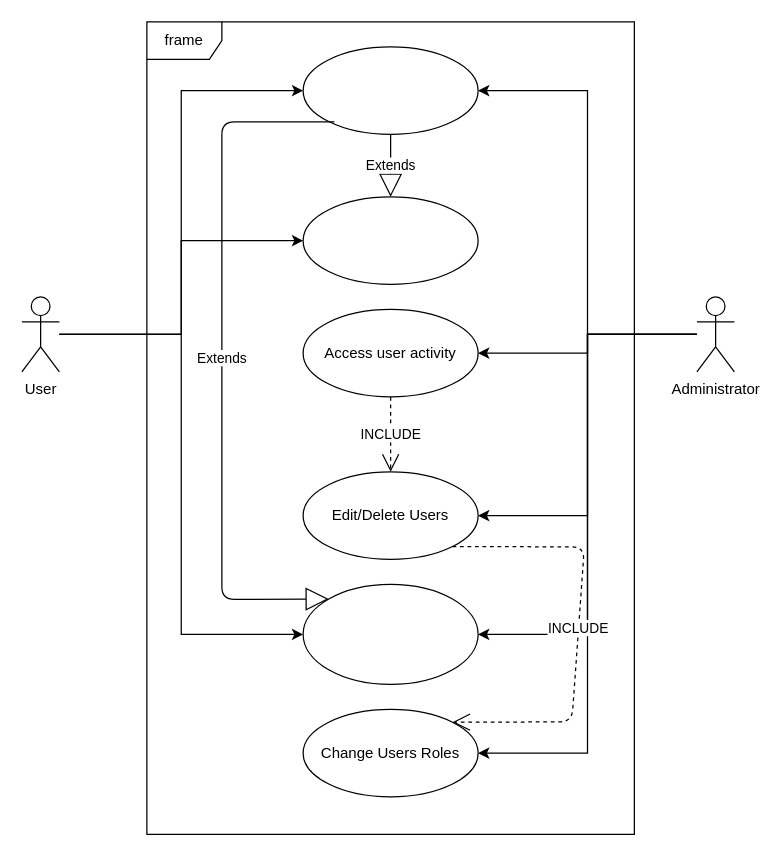
The diagram is 781 pixels wide and 856 high, and some of its shapes have lost their labels. The shapes that lost their labels are listed below. From the top down, each one's centre as x and y in pixels, then its label:
(x=390, y=90): Login
(x=390, y=240): Register
(x=390, y=633): Check diferent types of charts (via multiple dashboards)
